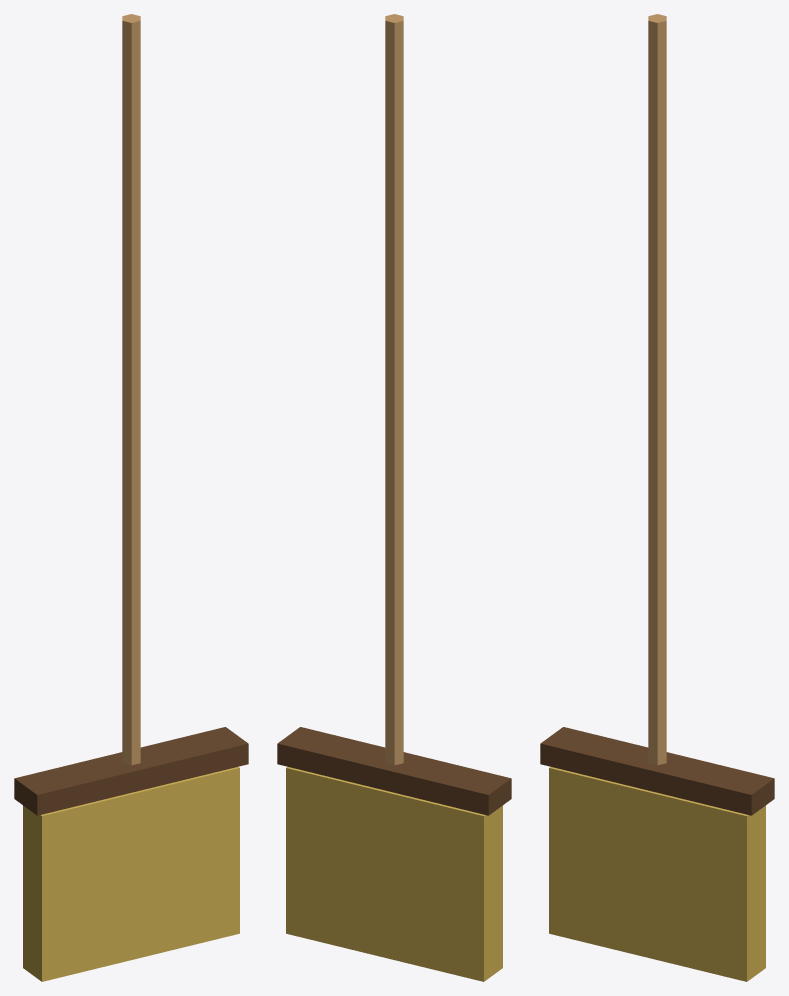
The model's file is GD_Broom_01.glb.
The picture shows the model from 3 angles, left to right: view 1: azimuth 30°, elevation 25°; view 2: azimuth 150°, elevation 25°; view 3: azimuth 330°, elevation 25°; orthographic projection.
Parts seen in each view (by area): view 1: GD_Broom_01; view 2: GD_Broom_01; view 3: GD_Broom_01.
Boxes of the visible parts, x1,y1,x2,y2 form: GD_Broom_01: (14,14,248,981); GD_Broom_01: (277,14,511,981); GD_Broom_01: (540,14,774,981).
Size of the model in its own units: 0.32 by 1.35 by 0.06.
1 material, 1 textured.
